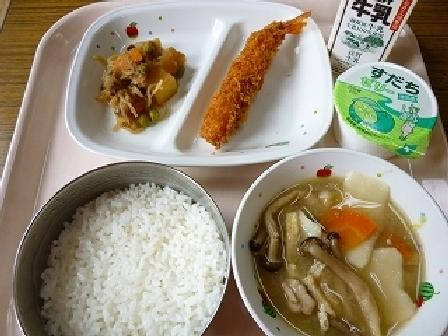Cup desserts: (322, 62, 435, 155)
Milk: (318, 1, 419, 71)
Rice: (22, 164, 219, 329)
Soups: (240, 162, 438, 335)
cooked food meat with vegetables: (89, 32, 192, 131)
seafood: (195, 6, 325, 149)
